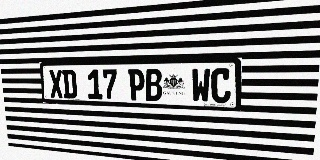1: (87, 69, 103, 99)
7: (102, 69, 118, 100)
B: (145, 69, 162, 101)
C: (211, 68, 231, 103)
D: (62, 70, 77, 99)
P: (128, 69, 145, 101)
W: (191, 68, 210, 103)
X: (49, 70, 63, 98)
